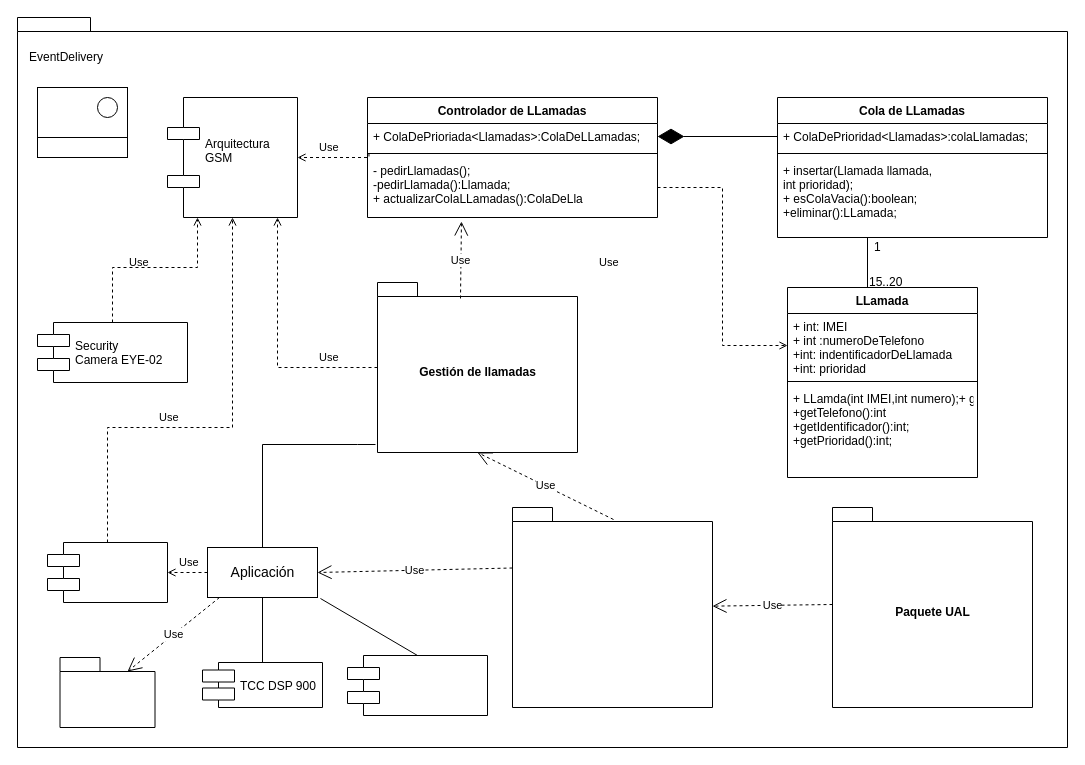
Some shapes in this 1085 by 765 pixel diagram are drawn without their labels. The shapes that lost their labels are listed below. From the top down, each one's centre as x and y in pixels, then its label:
(x=107, y=572): Wowza Streaming Engine
(x=612, y=607): Gestión de Alertas
(x=107, y=692): Publish and Subscriber
(x=417, y=685): TRADOS 5 SDL (Software CAT)
